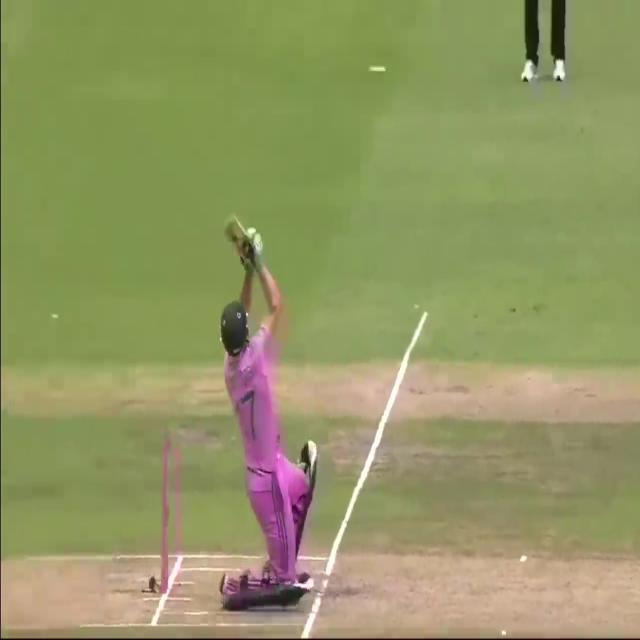Fielder: (217, 196, 316, 616)
Umpire: (512, 0, 575, 82)
